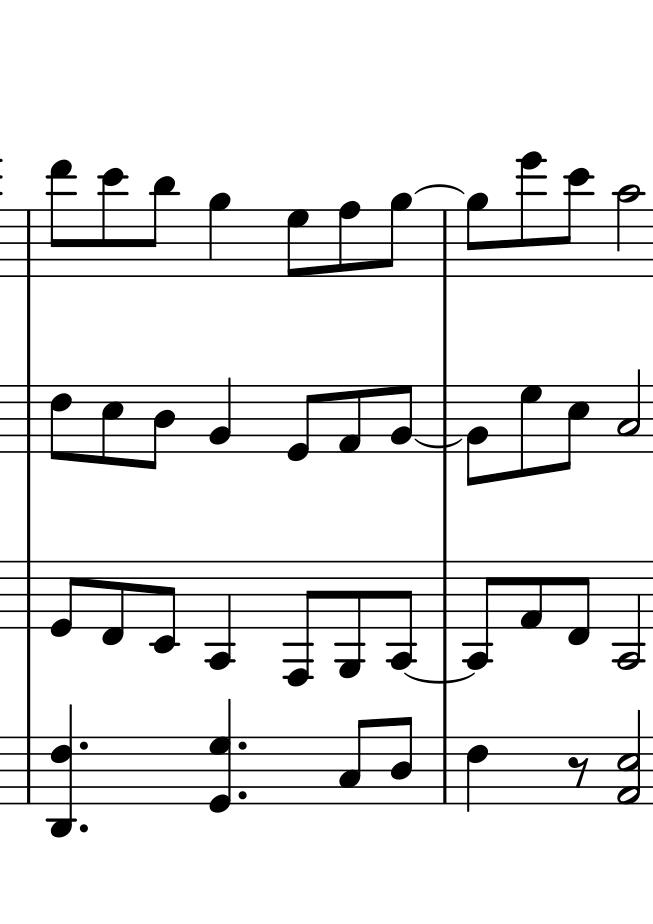2_-4: (613, 560, 643, 671)
2_0_5: (614, 709, 643, 806)
2_3: (615, 372, 642, 452)
4_-3_6: (47, 703, 80, 838)
4_0_7: (206, 699, 233, 815)
4_2: (207, 377, 234, 454)
4_6: (465, 735, 489, 811)
4_9: (207, 190, 231, 280)
8_-1: (99, 559, 127, 648), (565, 559, 592, 647)
8_-2: (149, 560, 179, 654)
8_-4: (204, 559, 235, 673), (387, 560, 419, 670), (464, 559, 494, 670)
8_-5: (336, 559, 366, 679)
8_-6: (283, 558, 319, 688)
8_0: (285, 384, 317, 464), (49, 559, 80, 639)
8_1: (336, 383, 363, 455), (519, 558, 545, 631)
8_10: (615, 183, 644, 278)
8_11: (144, 170, 175, 281)
8_12: (559, 164, 592, 278), (99, 165, 128, 281)
8_13: (46, 158, 74, 278)
8_14: (516, 152, 545, 277)
8_2: (465, 385, 489, 489), (389, 383, 414, 454)
8_3: (337, 718, 370, 806)
8_4: (145, 385, 176, 473), (390, 715, 414, 807), (100, 383, 125, 467)
8_5: (560, 384, 589, 473)
8_6: (48, 383, 73, 463)
8_7: (517, 383, 542, 479), (285, 208, 310, 279)
8_8: (336, 200, 361, 279)
8_9: (380, 193, 413, 279), (465, 193, 489, 278)
Rests8: (567, 754, 591, 789)
Single_barline: (436, 385, 453, 449), (20, 210, 36, 275), (20, 561, 35, 628), (437, 737, 452, 803), (21, 385, 35, 454), (438, 561, 451, 629), (21, 737, 34, 804)
Slur: (405, 673, 479, 685), (414, 183, 465, 196), (414, 438, 468, 450)
dot: (234, 738, 251, 754), (76, 738, 91, 752), (236, 788, 249, 802), (77, 822, 89, 834)
